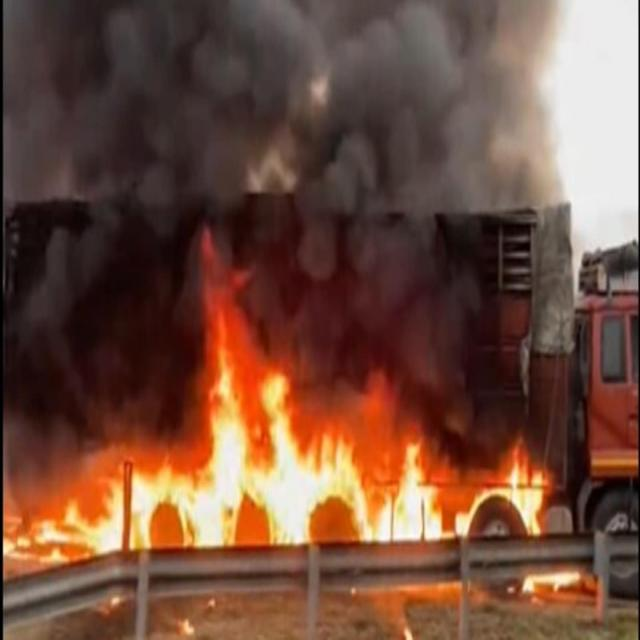accident: (0, 185, 640, 576)
